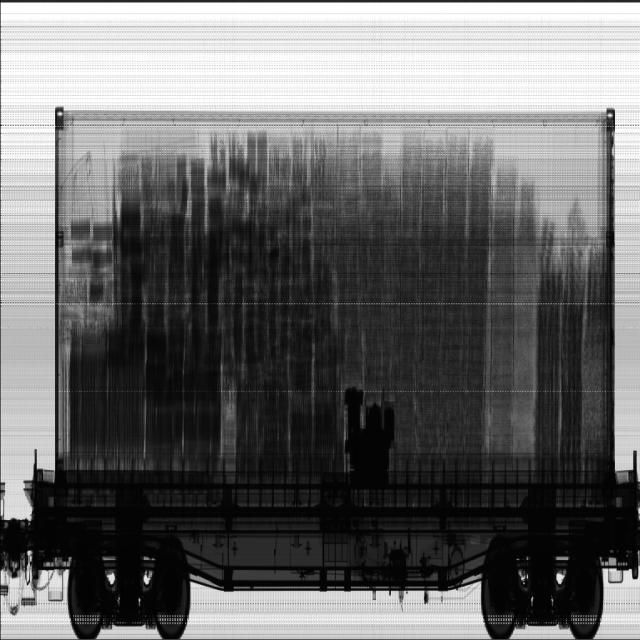spare parts: (343, 387, 397, 479)
textiles: (311, 132, 537, 455)
